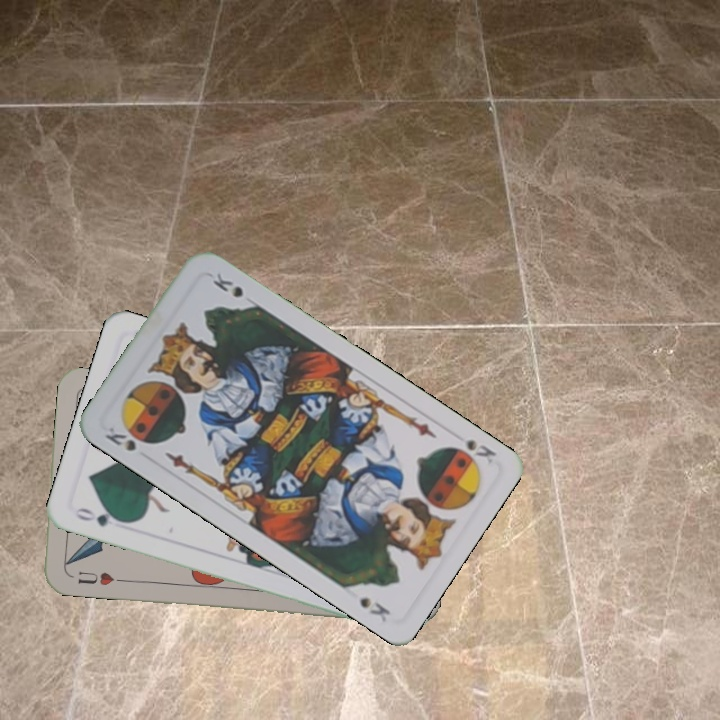GO: (71, 503, 129, 529)
HU: (73, 567, 125, 588)
SK: (445, 435, 499, 469), (101, 422, 139, 454)
